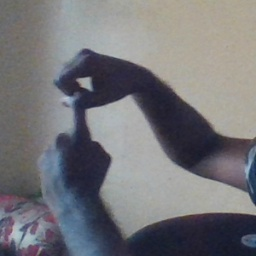Q: (34, 47, 144, 183)
